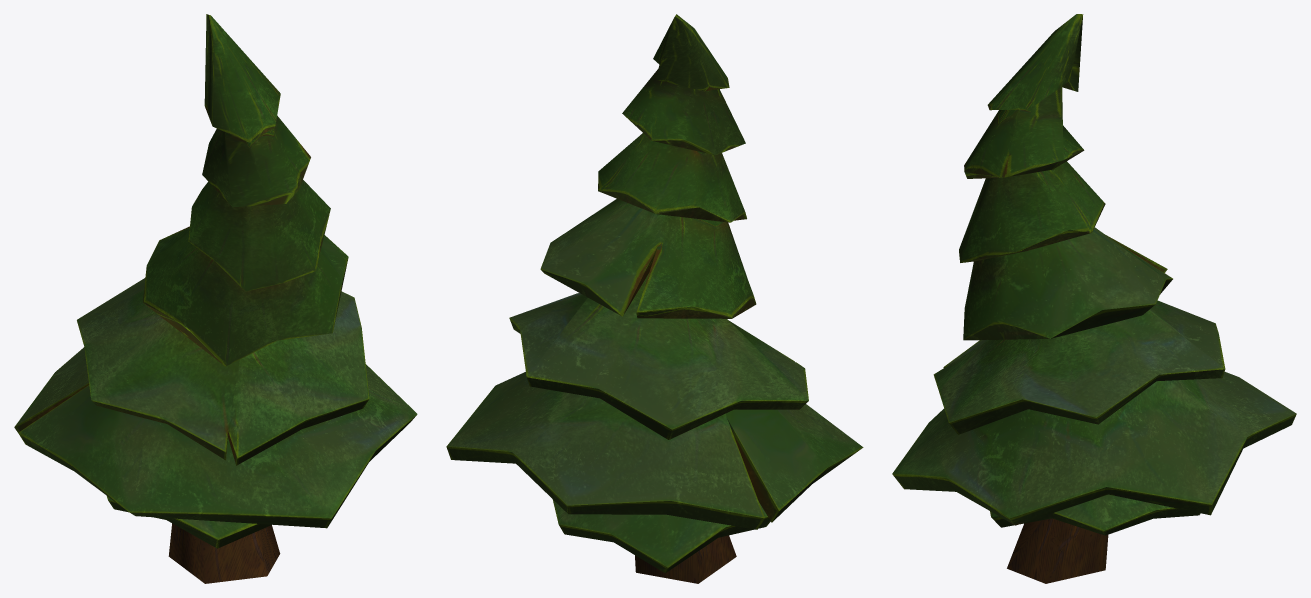
Rendered from SM_Tree_02_Reduced.FBX.
3 views of the same model, side by side, from view 1: azimuth 30°, elevation 25°; view 2: azimuth 150°, elevation 25°; view 3: azimuth 270°, elevation 25° (orthographic). The views are drawn at different scales.
Parts seen in each view (by area): view 1: SM_Tree_02_Reduced; view 2: SM_Tree_02_Reduced; view 3: SM_Tree_02_Reduced.
Part boxes in pixels (x1,y1,x2,y2): SM_Tree_02_Reduced: (14, 14, 417, 583); SM_Tree_02_Reduced: (446, 14, 863, 583); SM_Tree_02_Reduced: (892, 14, 1296, 583).
Bounding box in the file's own units: 82.29 × 89.59 × 133.
